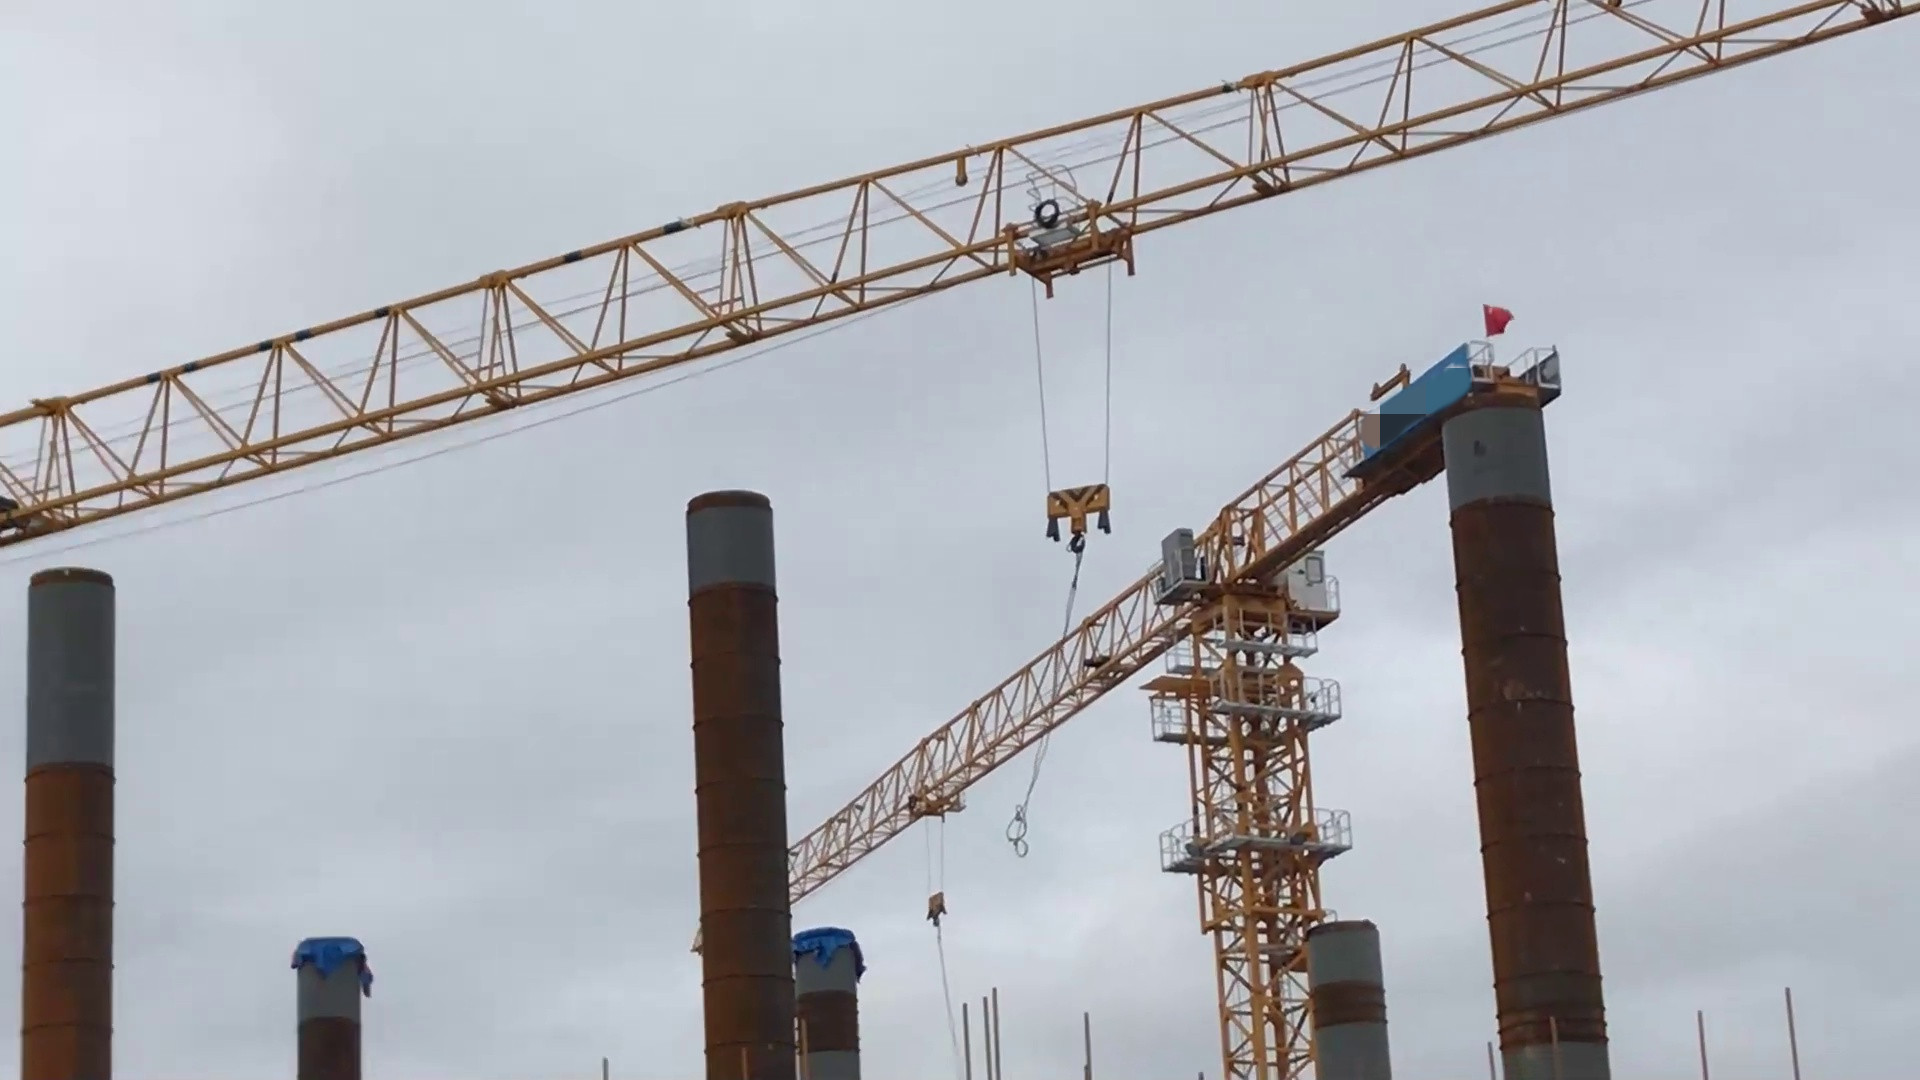hook: (1031, 469, 1125, 564)
